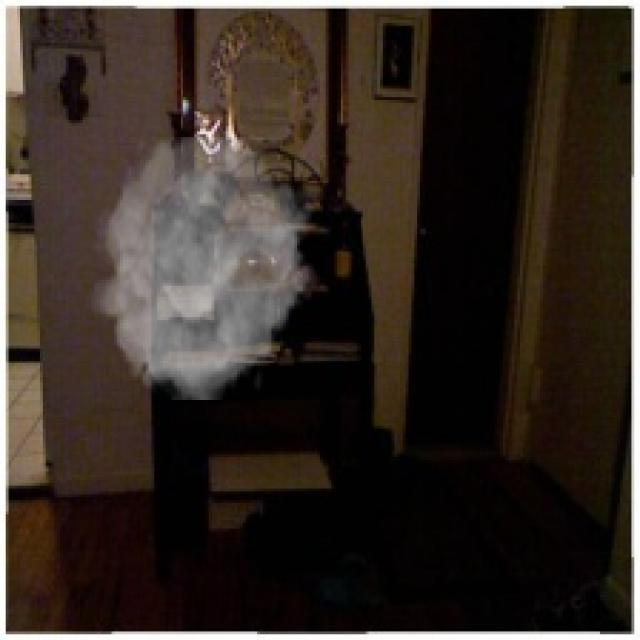smoke: (89, 137, 320, 400)
